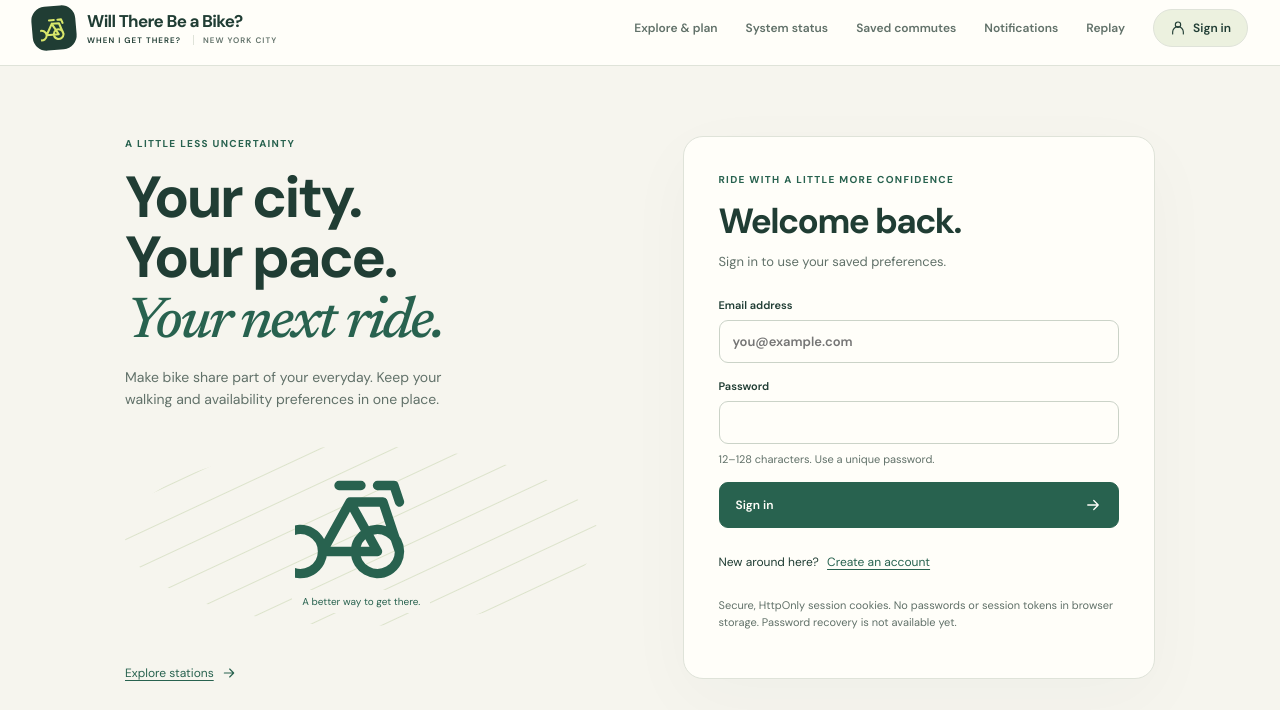
it: completes login without storing credentials in localStorage
In the field labelled "Email address": (919, 342) [718,320,1119,363], type "rider@example.test"
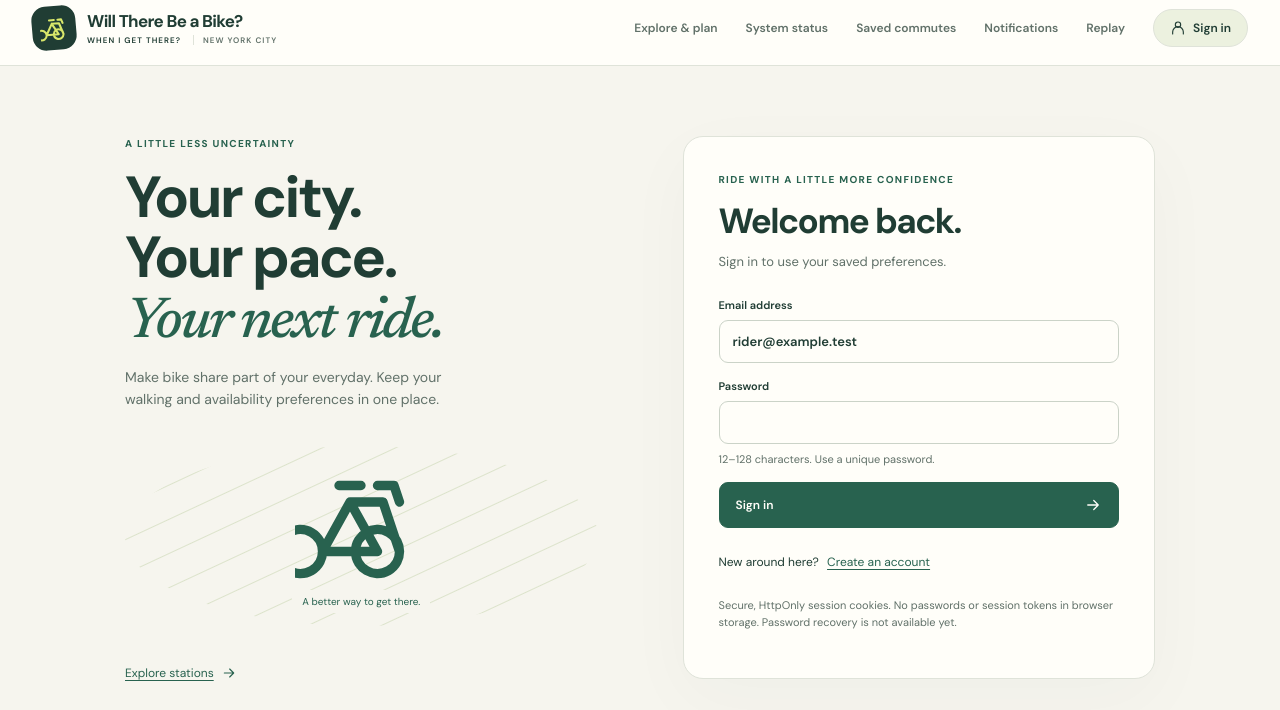
In the password field labelled "Password": (919, 422) [718,401,1119,444], type "test-only-password-123"
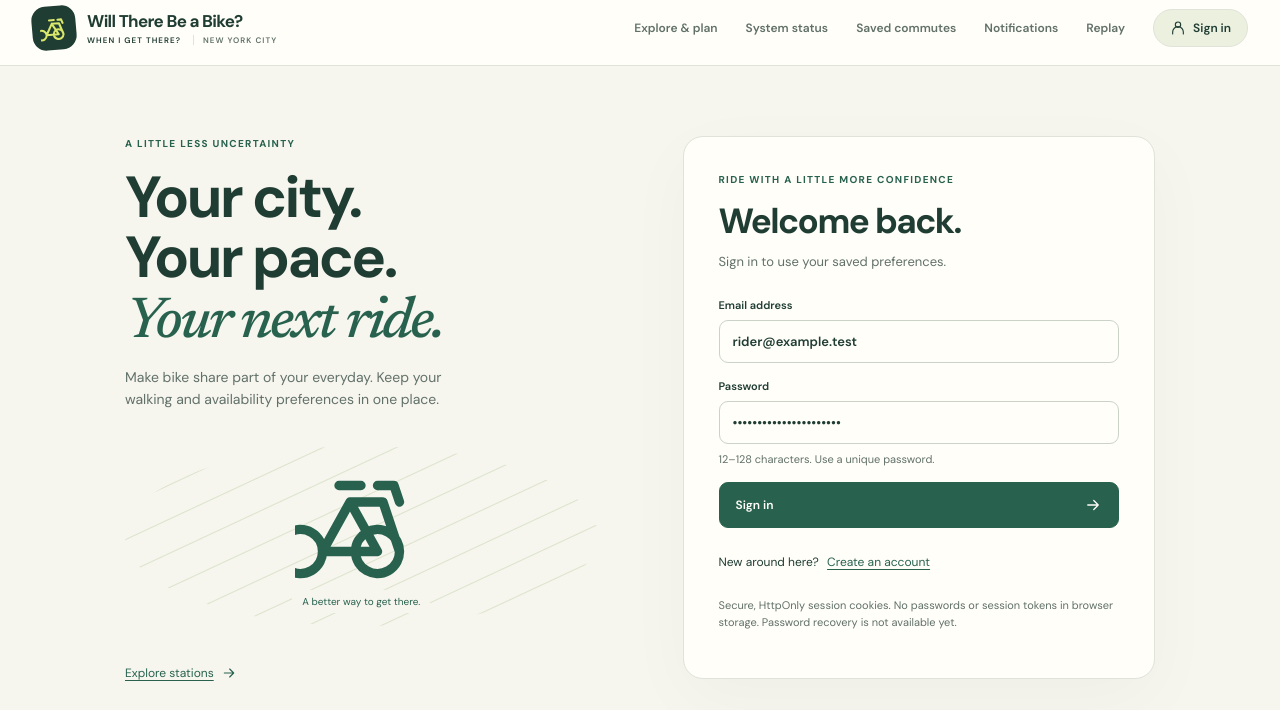
Click the button "Sign in": (754, 505) [718,482,1119,528]
(page scrolled)
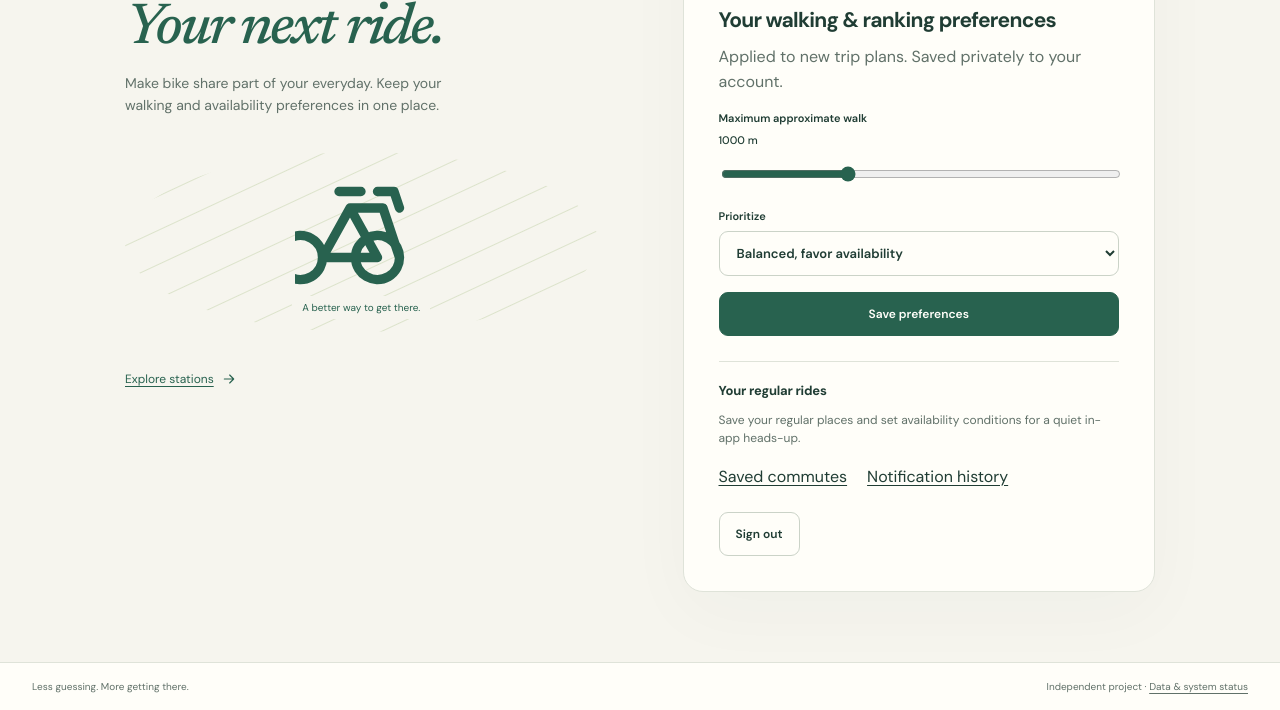
Result: the link "Notification history" is shown at [867,466,1008,487]
